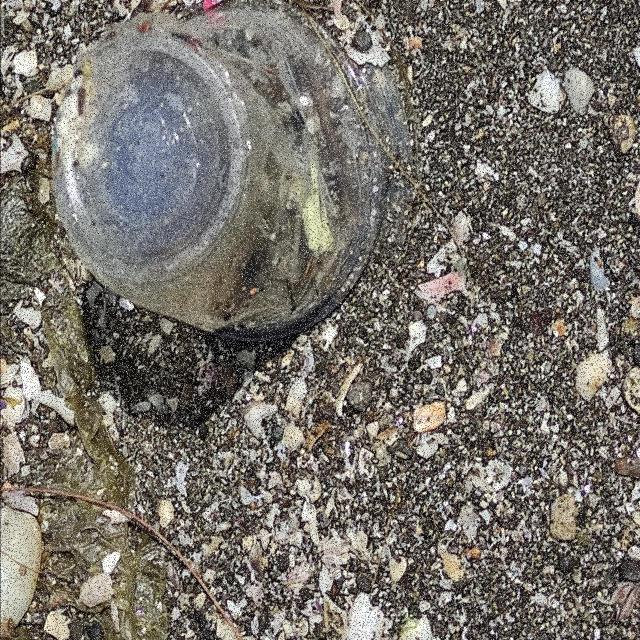plastic_waste: (51, 2, 379, 343)
